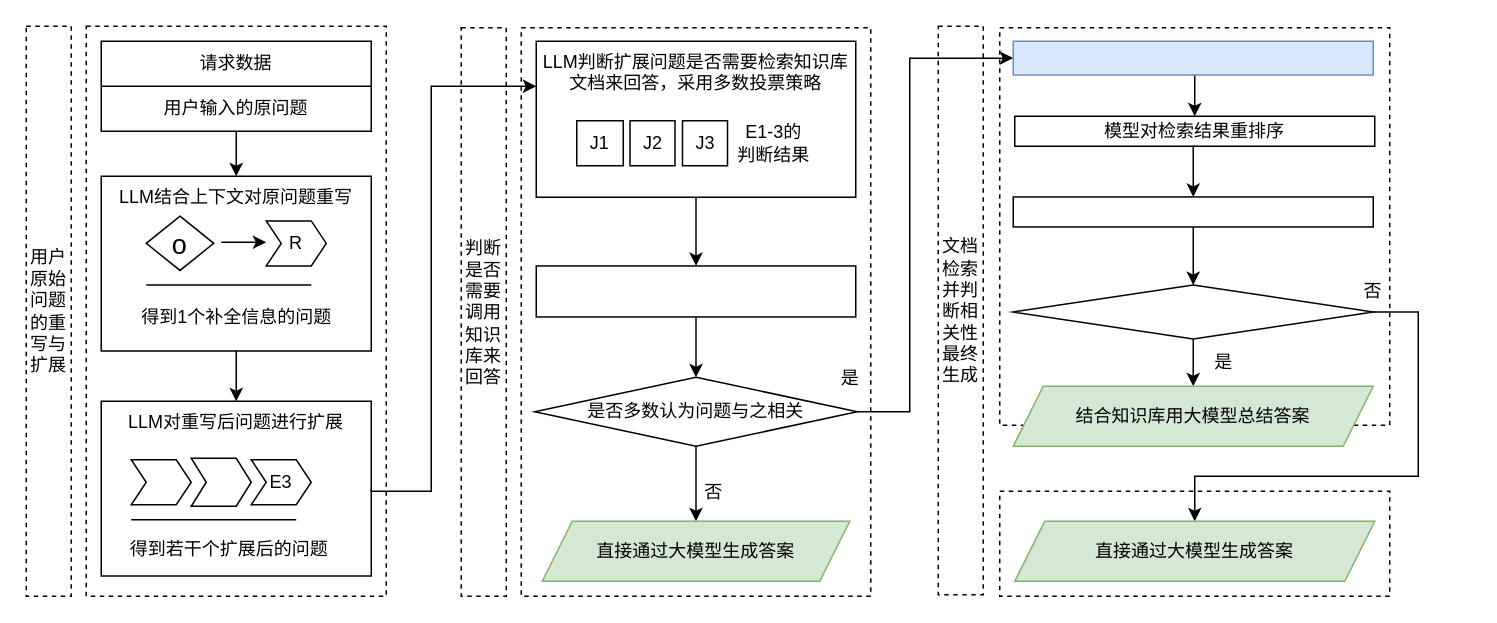
This 1497x623 diagram has some shape labels left out. Here are the shapes that lost their labels. From the top down, the centre of each, then its label:
the point at 1192,57: 检索RAG库的文档切片
the point at 1192,211: LLM判定检索的文档切片是否相关
the point at 695,290: 判断问题与知识库描述是否相关
the point at 1192,311: 剔除不相关的之后是否还有数据
the point at 160,481: E1
the point at 220,481: E2
